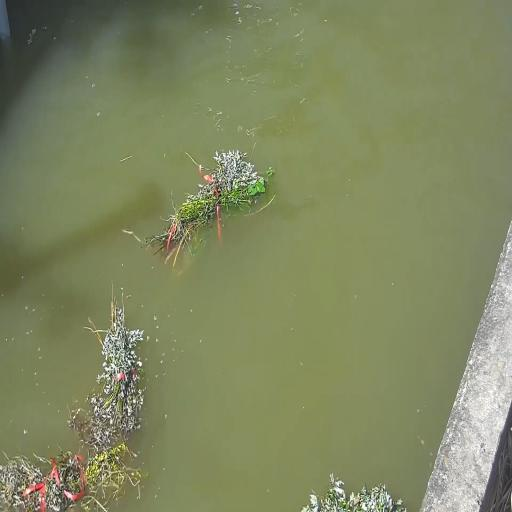twig: (143, 147, 272, 263), (72, 280, 150, 436), (0, 438, 143, 510), (302, 473, 405, 512)
